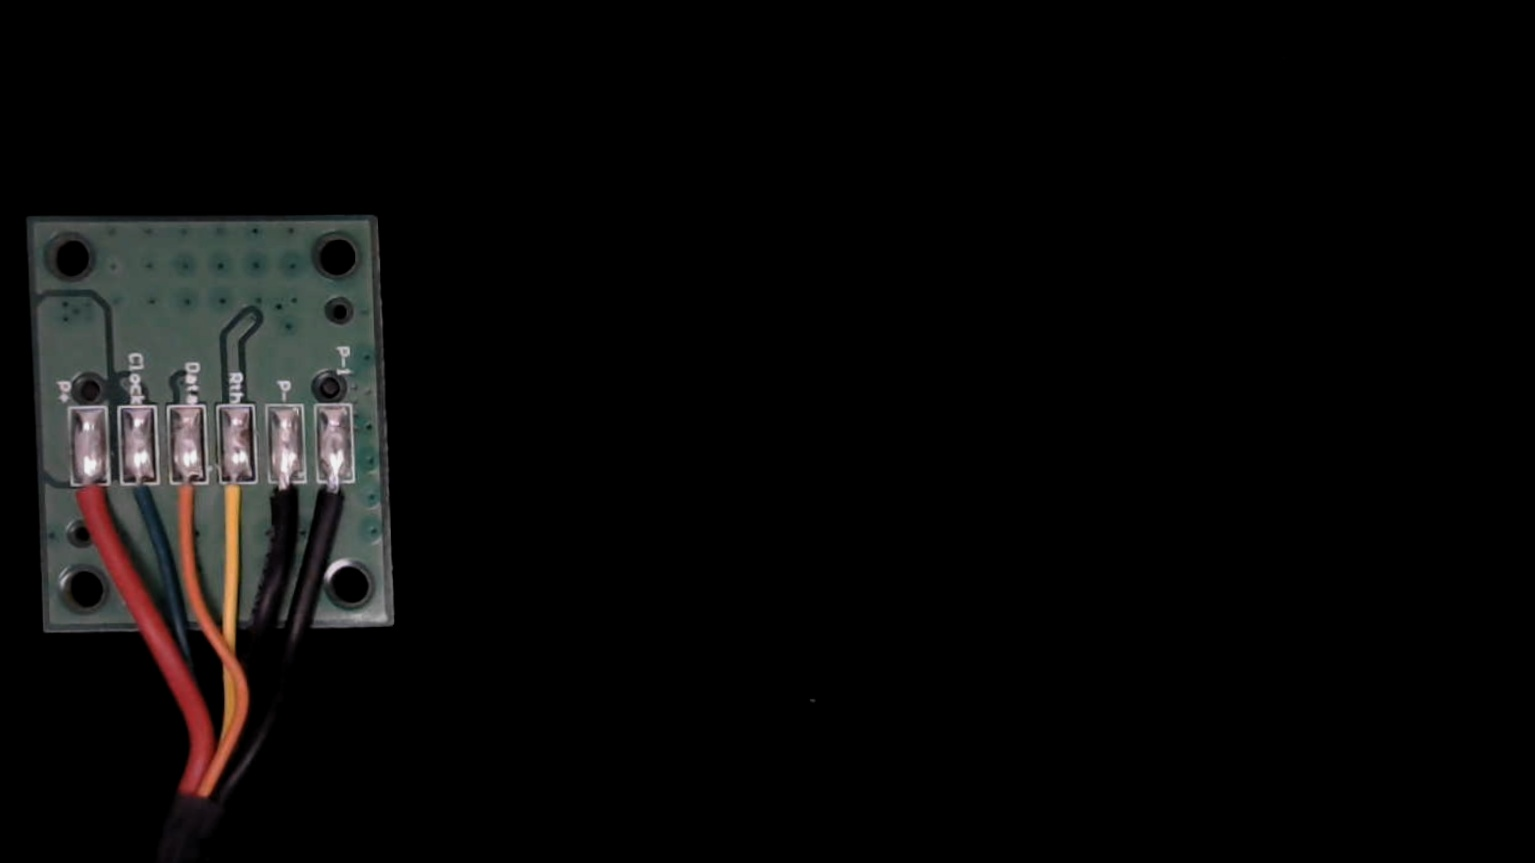Black: (266, 466, 306, 551)
Black1: (315, 466, 358, 549)
Green: (118, 465, 163, 551)
Orange: (170, 465, 212, 554)
Red: (69, 468, 113, 554)
Yellow: (214, 467, 259, 558)
